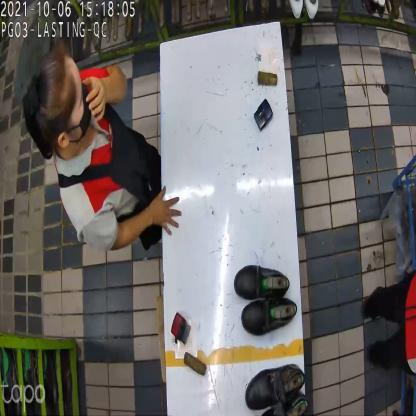shoes: (233, 261, 298, 337), (244, 358, 308, 416)
stamp: (170, 314, 193, 344), (254, 98, 274, 132)
